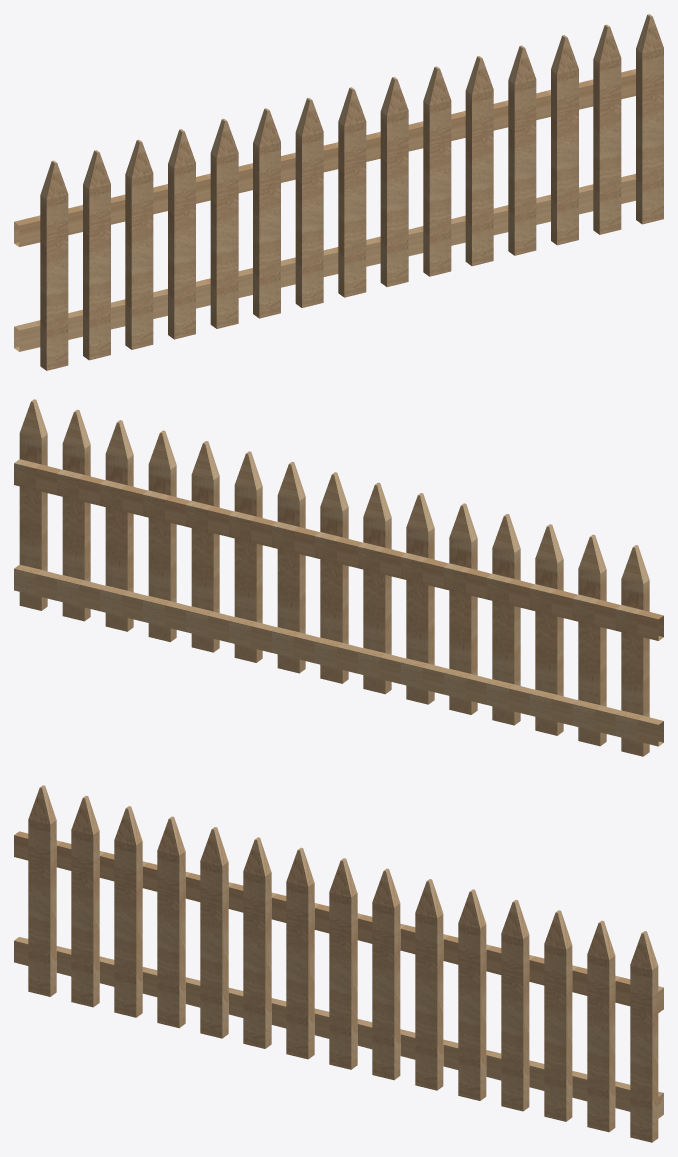
The model's file is fence.fbx.
3 views of the same model, one above another, from view 1: azimuth 30°, elevation 25°; view 2: azimuth 150°, elevation 25°; view 3: azimuth 330°, elevation 25° (orthographic).
Parts seen in each view (by area): view 1: Fence; view 2: Fence; view 3: Fence.
Part boxes in pixels (bbox=[...]): Fence: bbox=[14, 14, 663, 370]; Fence: bbox=[14, 399, 663, 756]; Fence: bbox=[14, 785, 663, 1142].
Bounding box in the file's own units: 3735 × 1139 × 131.
1 material, 1 textured.
